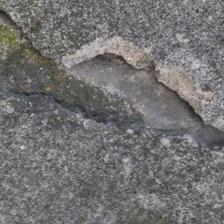Crack: (31, 17, 187, 132)
